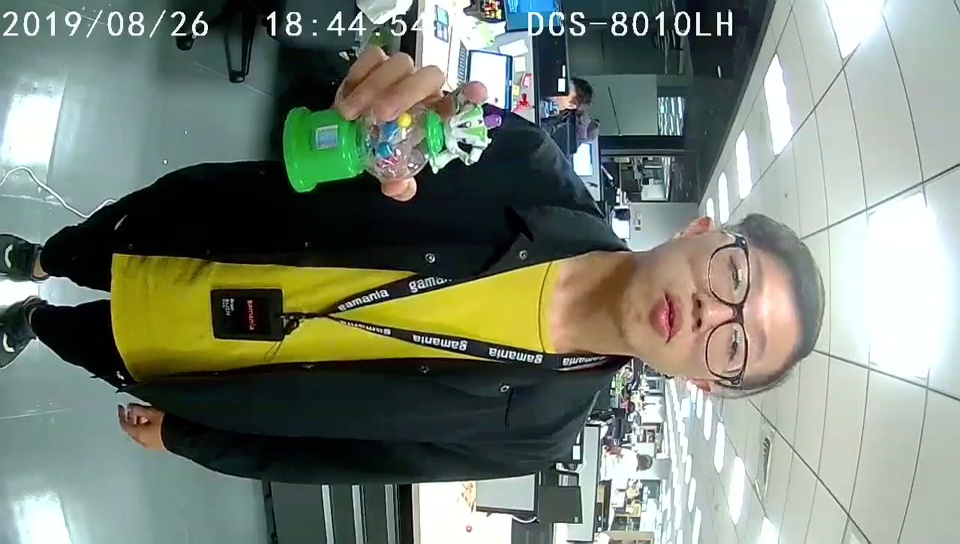buzz: (282, 95, 500, 198)
